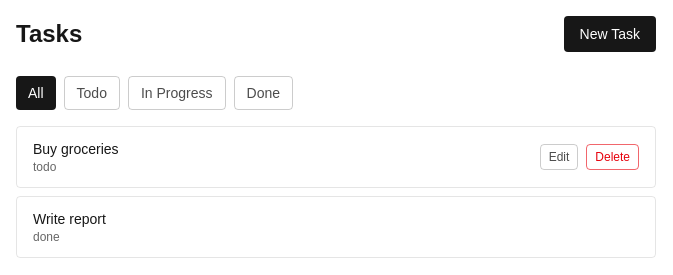
TasksPage › removes a task from the rendered list once its delete is confirmed
Check: the text "Buy groceries" is shown, box 33,139 -> 119,159
Check: the text "Write report" is shown, box 33,209 -> 106,229
Only ownTask renders Edit/Delete controls, so this is unambiguous.
Click the button "Delete".
click(613, 157)  # box 586,144 -> 639,170
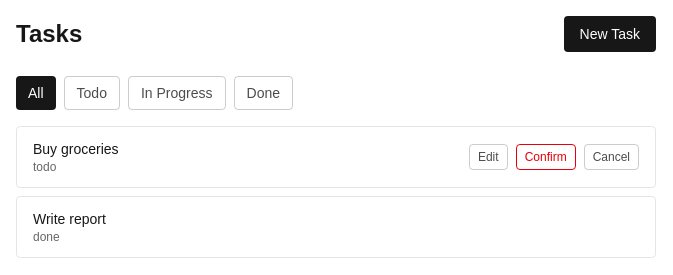
Click the button "Confirm".
click(546, 157)  # box 516,144 -> 576,170
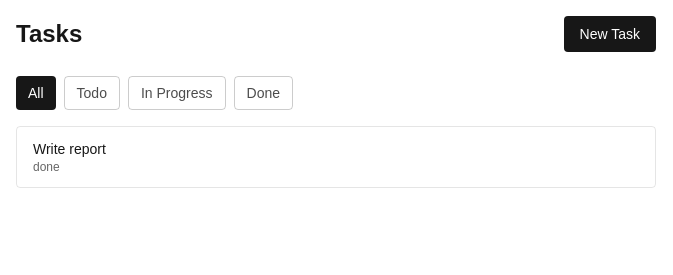
Check: the text "Write report" is shown, box 33,139 -> 106,159
Check: the text "Buy groceries" is gone
